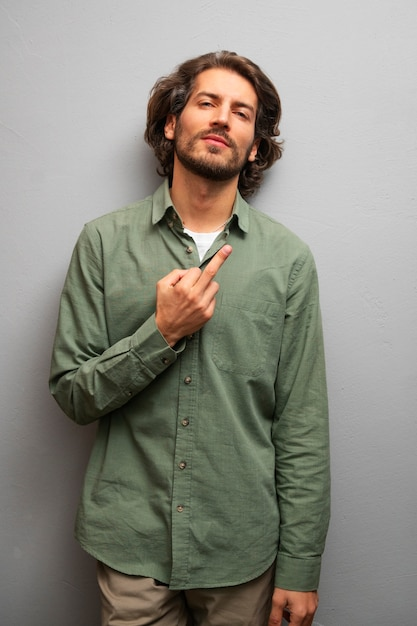insulting_gesture: (154, 242, 234, 346)
